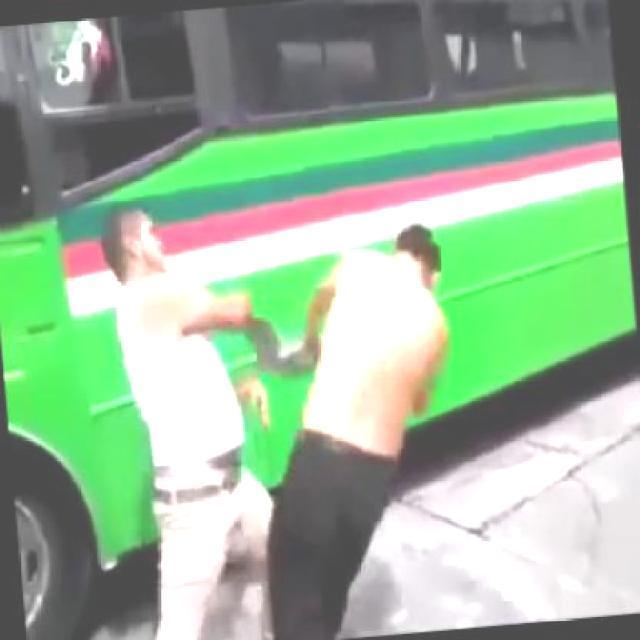fight: (91, 172, 480, 638)
